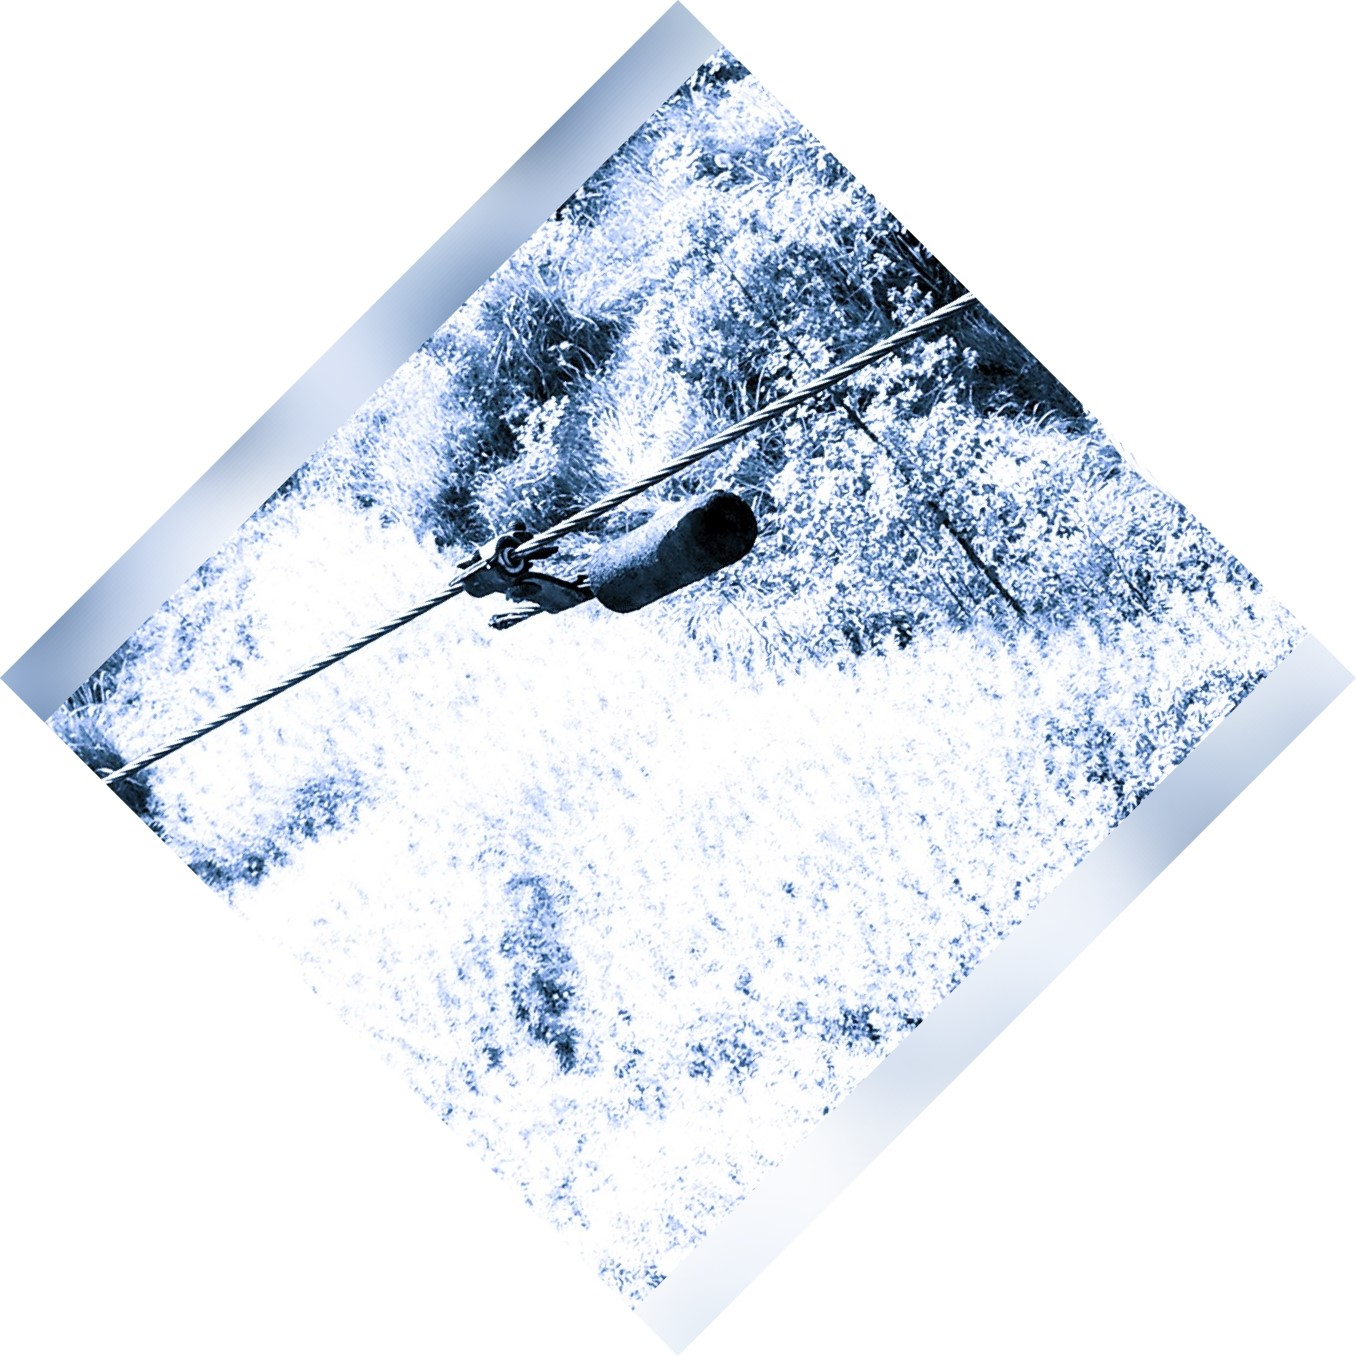Damage of shockproof hammer: (438, 462, 762, 644)
